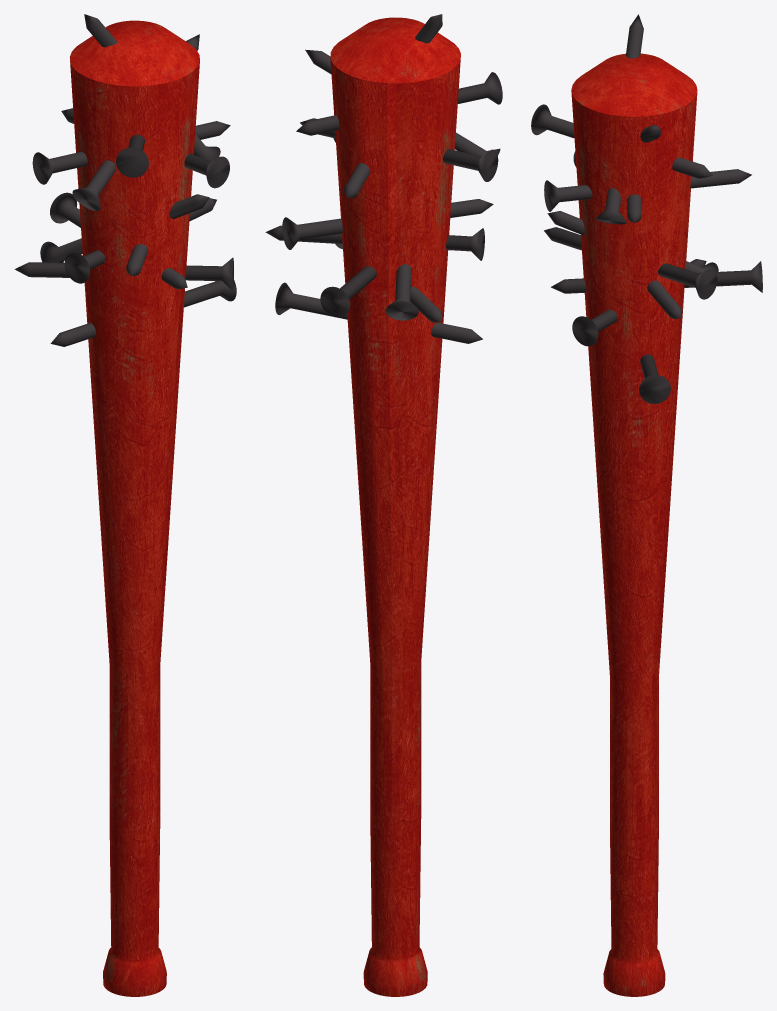
Rendered from LeGrosBatDeTonyDeluxe (1).fbx.
3 renders of one model, left to right at view 1: azimuth 30°, elevation 25°; view 2: azimuth 150°, elevation 25°; view 3: azimuth 270°, elevation 25°, orthographic. The views are drawn at different scales.
Parts seen in each view (by area): view 1: Cylindre.003; view 2: Cylindre.003; view 3: Cylindre.003.
Part boxes in pixels (<box>): Cylindre.003: <box>14,14,236,996</box>; Cylindre.003: <box>265,14,502,996</box>; Cylindre.003: <box>531,14,762,996</box>.
Size of the model in its own units: 7.08 by 33.1 by 7.34.
